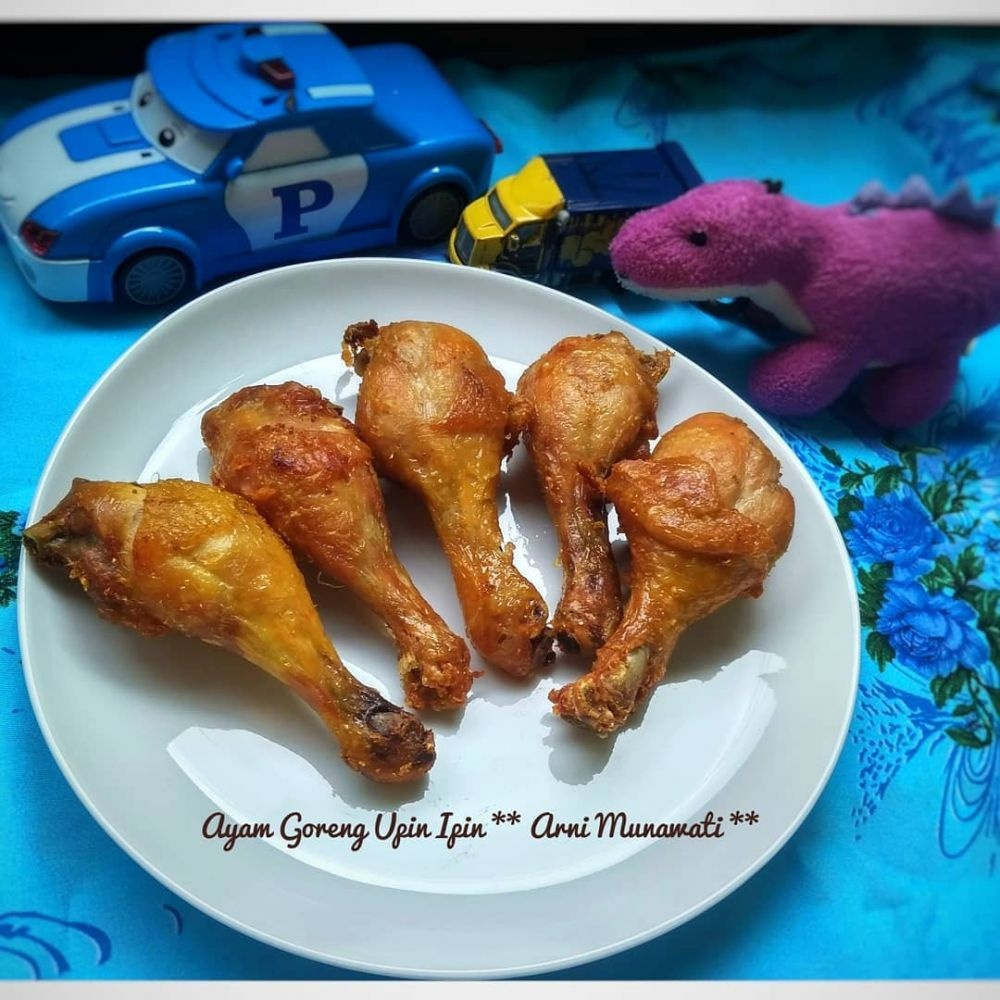ayam_goreng: (10, 479, 419, 784), (538, 413, 805, 739), (330, 315, 557, 686)
